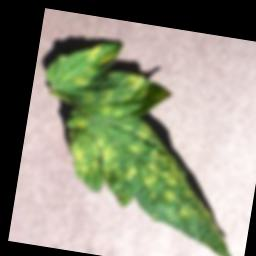Leaf_Mold: (21, 34, 256, 256)
